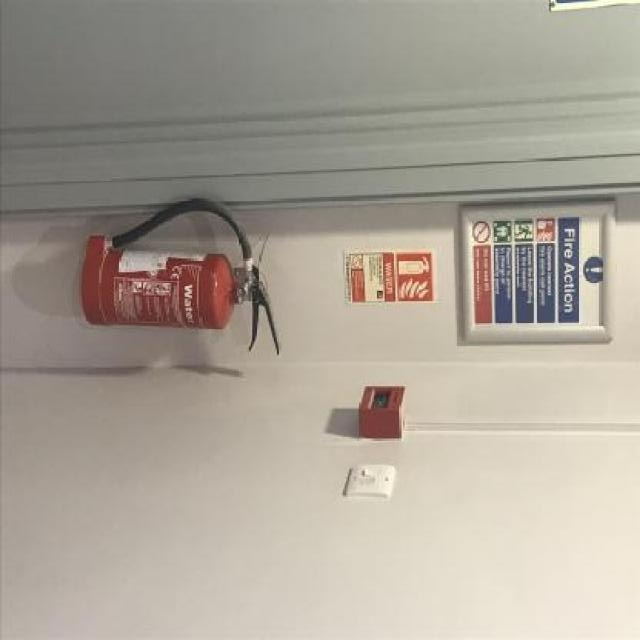fire extinguisher: (80, 199, 282, 356)
